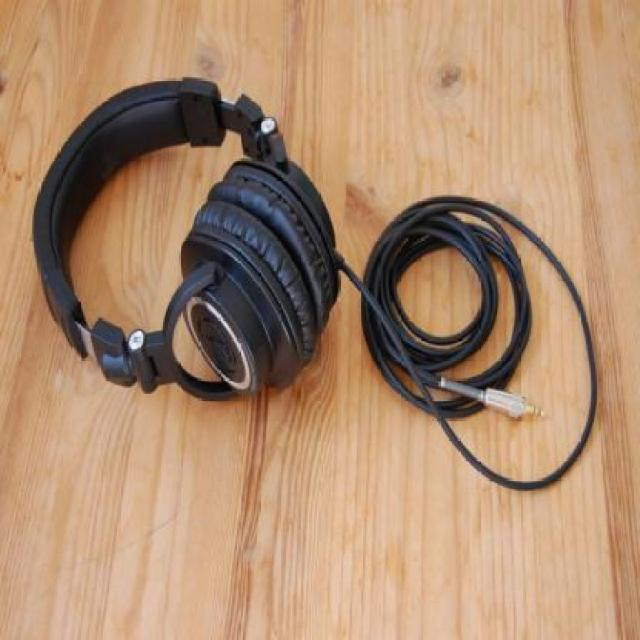earphone: (32, 62, 350, 378)
